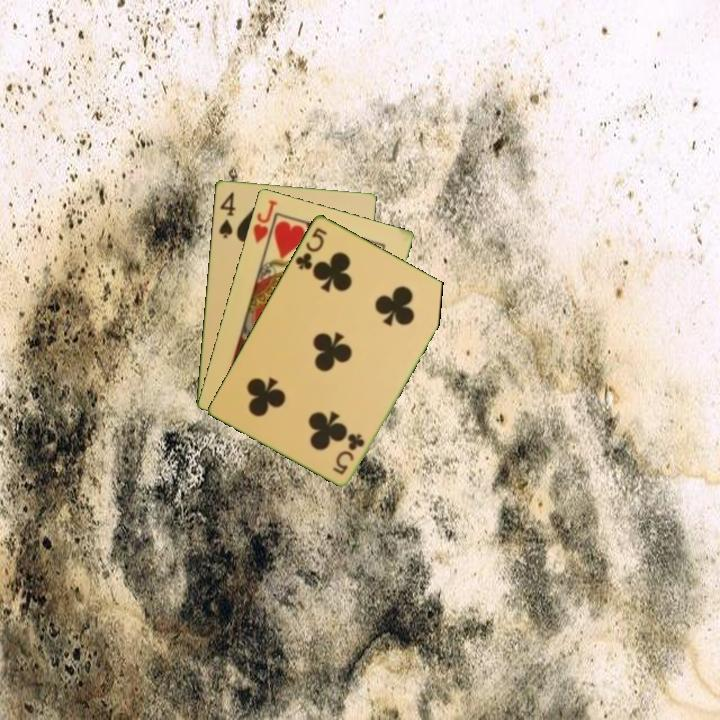4s: (215, 188, 238, 241)
5c: (292, 224, 330, 273), (329, 430, 367, 477)
Jh: (249, 196, 280, 246)
